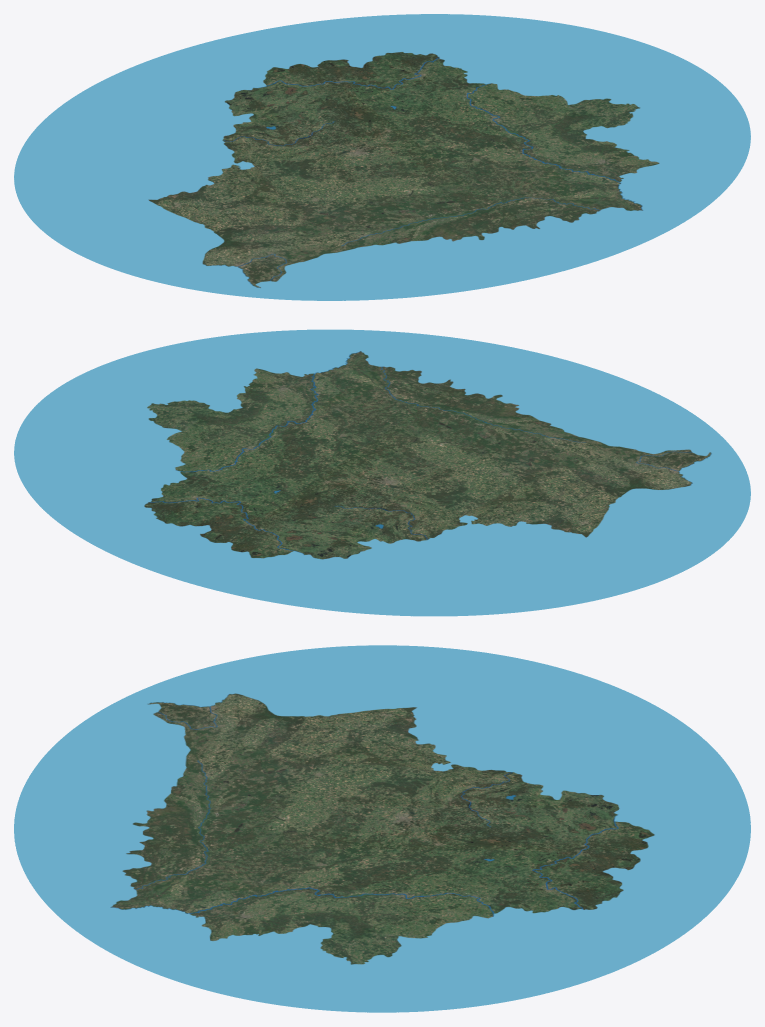
Rendered from BLR-previa-terrain.glb.
3 renders of one model, top to bottom at view 1: azimuth 30°, elevation 25°; view 2: azimuth 150°, elevation 25°; view 3: azimuth 270°, elevation 25°, orthographic. The views are drawn at different scales.
Parts seen in each view (by area): view 1: Bielorrússia; view 2: Bielorrússia; view 3: Bielorrússia.
Boxes of the visible parts, <box> form: Bielorrússia: <box>14,14,750,300</box>; Bielorrússia: <box>14,329,750,616</box>; Bielorrússia: <box>14,645,750,1012</box>.
Bounding box in the file's own units: 2.43 × 0.00983 × 2.06.
1 material, 1 textured.
